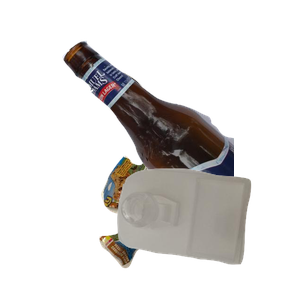glass: (60, 38, 300, 218)
metal: (99, 70, 236, 176)
plastic: (115, 166, 300, 300)
trash: (97, 151, 283, 300)
